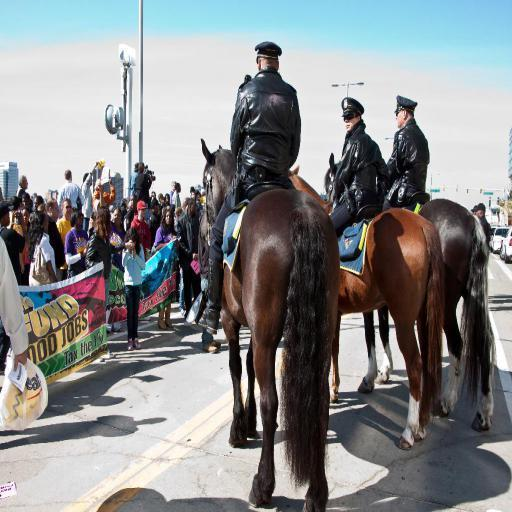horse: (201, 140, 341, 512), (322, 153, 498, 433), (286, 164, 444, 452)
